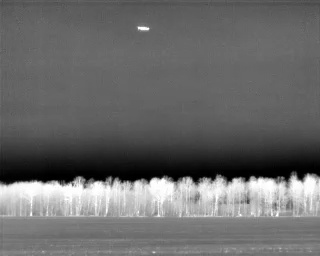DRONE: (134, 22, 153, 36)
